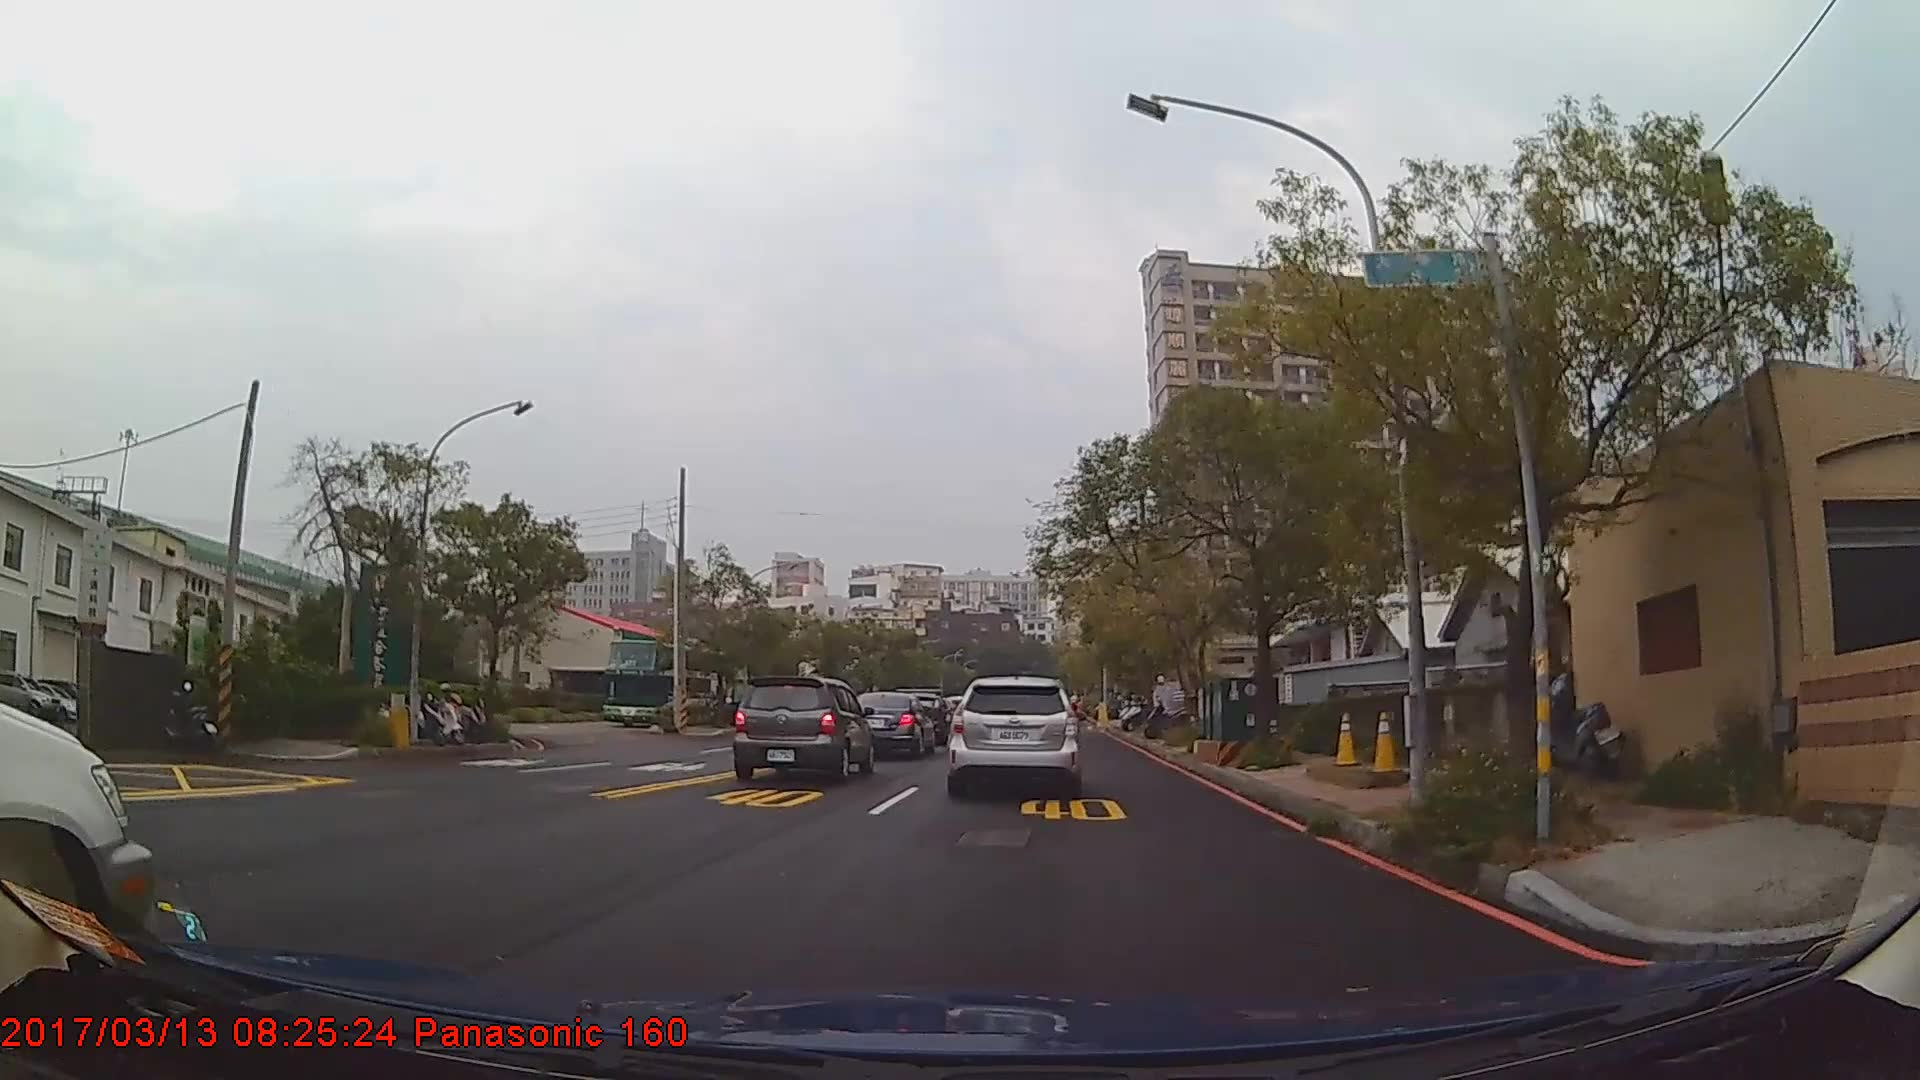vehicle: (0, 699, 152, 978), (945, 675, 1081, 794), (731, 675, 876, 782), (603, 638, 735, 731), (847, 691, 934, 757)
